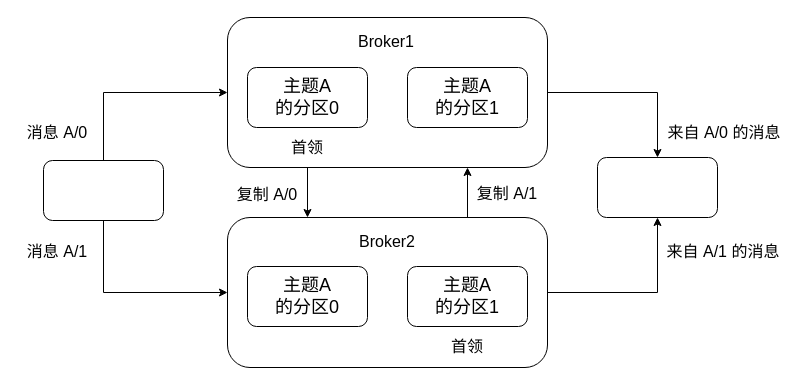
Some shapes in this 806 by 385 pixel diagram are drawn without their labels. The box of each missing label's shape, as (x1, y1, x2, y2) in pixels:
消费者: (596, 156, 718, 218)
生产者: (42, 160, 164, 220)
